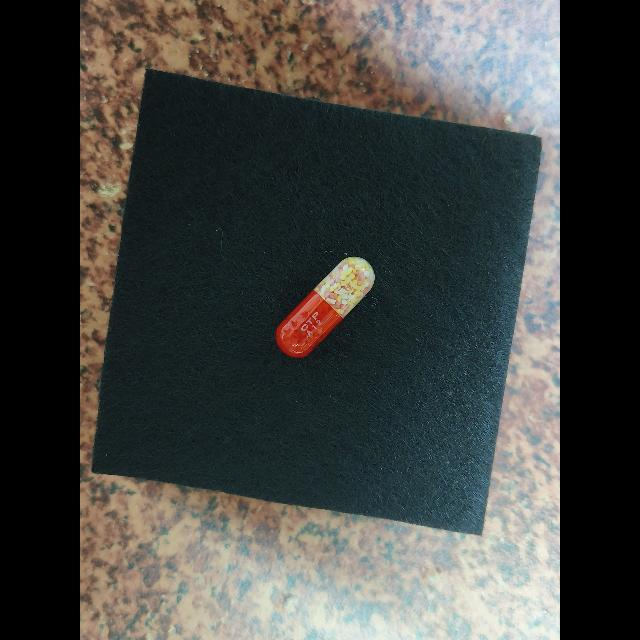Intact Capsule: (275, 256, 375, 357)
